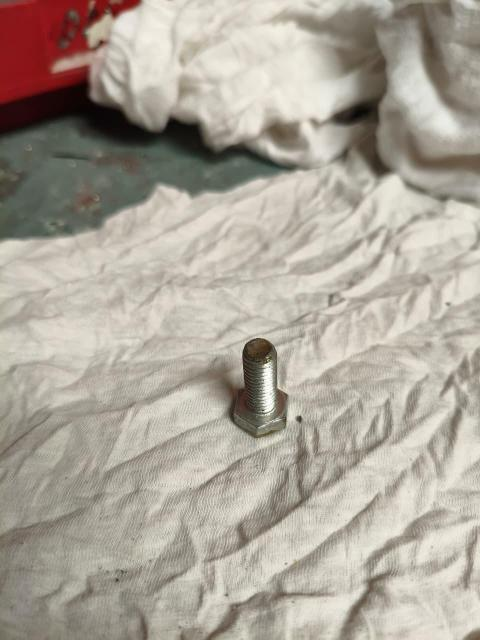Metal: (230, 330, 292, 437)
